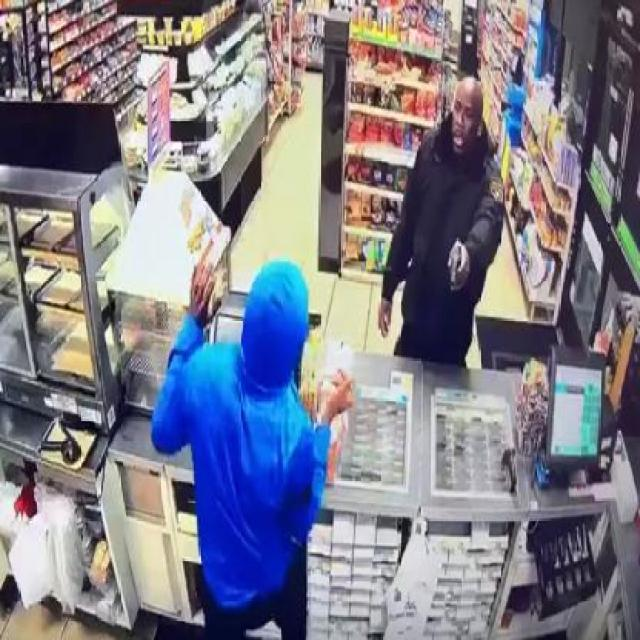weapon: (444, 234, 470, 302)
